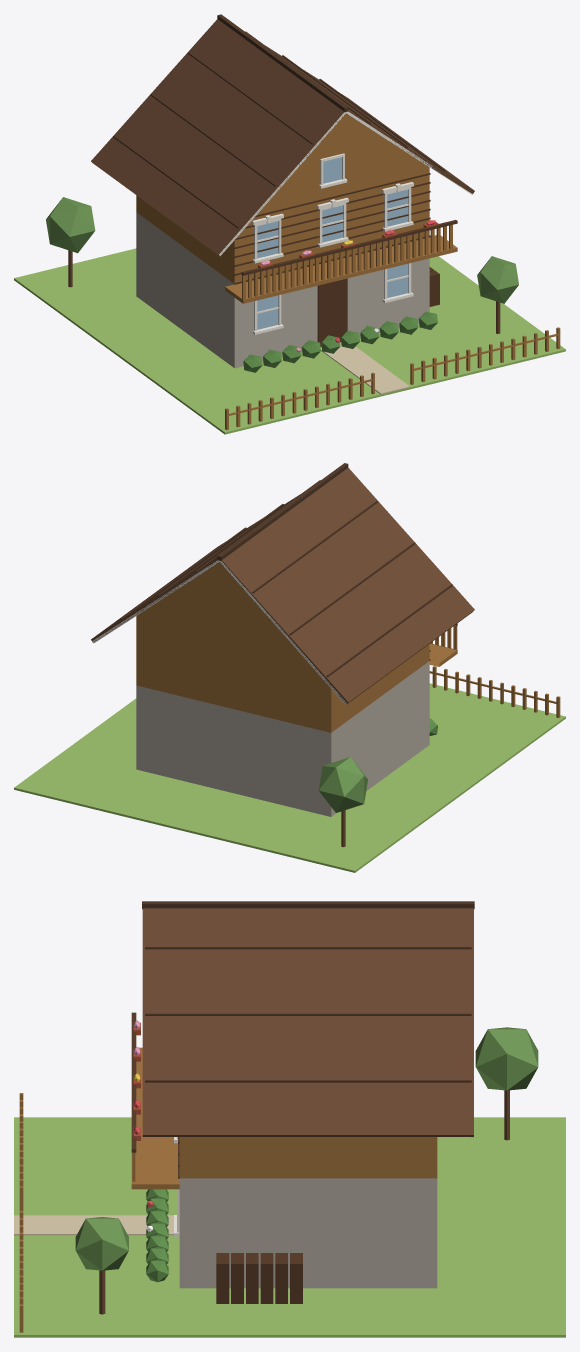
The model's file is Konut_sale_2_Hafif.fbx.
3 views of the same model, one above another, from view 1: azimuth 30°, elevation 25°; view 2: azimuth 150°, elevation 25°; view 3: azimuth 270°, elevation 25° (orthographic). The views are drawn at different scales.
Visible parts, largest first — view 1: Konut_sale_2_Hafif; view 2: Konut_sale_2_Hafif; view 3: Konut_sale_2_Hafif.
Part boxes in pixels (bbox=[...]): Konut_sale_2_Hafif: bbox=[14, 14, 565, 434]; Konut_sale_2_Hafif: bbox=[14, 463, 565, 872]; Konut_sale_2_Hafif: bbox=[14, 901, 565, 1337].
Bounding box in the file's own units: 14 × 9.78 × 15.
